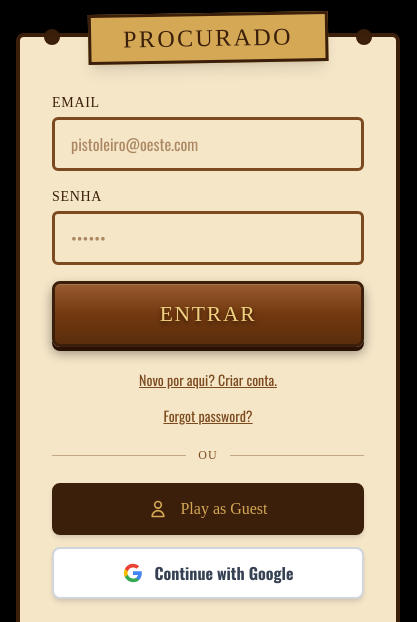
Test: LoginScreen › shows a friendly message when Google login is cancelled
This screenshot has width=417, height=622.
(page scrolled)
Click the button with aria-label "Entrar com Google" at point(208, 573), box [52,547,364,599]
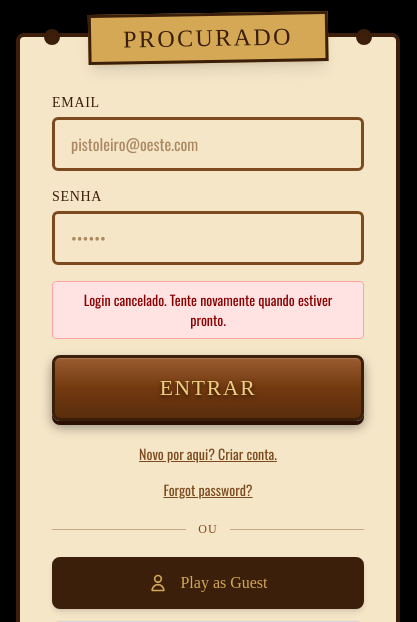
Expected: the text "Login cancelado. Tente novamente quando estiver pronto." is shown, [52,281,364,339]
